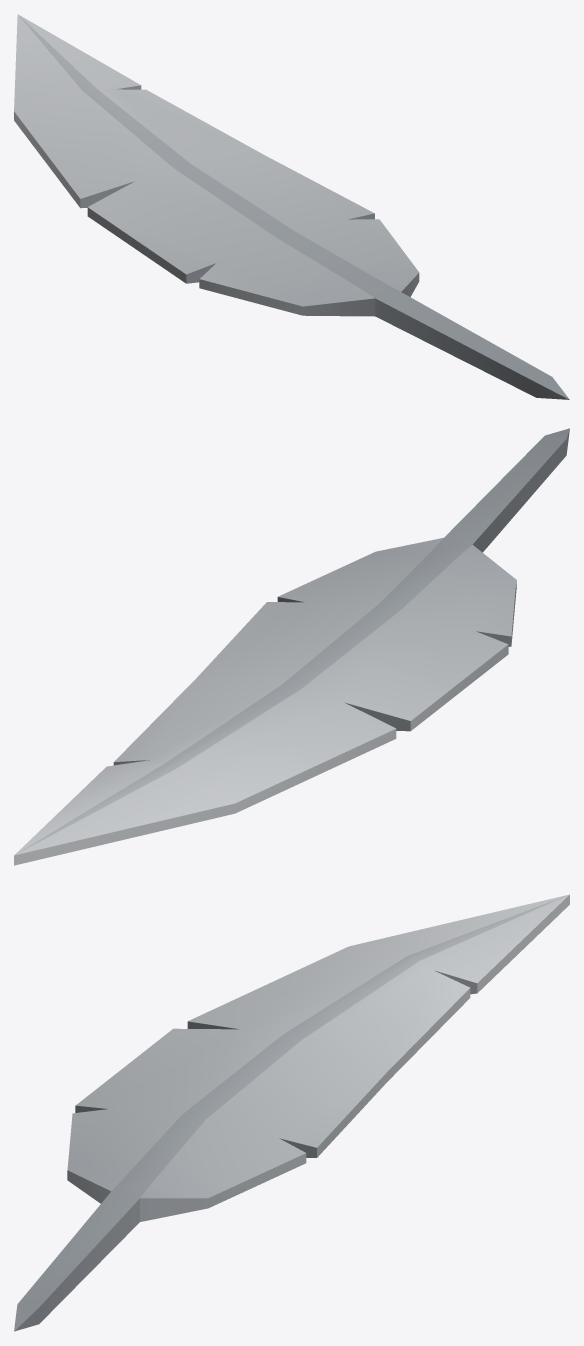
The model's file is Feather1.fbx.
The picture shows the model from 3 angles, top to bottom: view 1: azimuth 30°, elevation 25°; view 2: azimuth 150°, elevation 25°; view 3: azimuth 330°, elevation 25°; orthographic projection. The views are drawn at different scales.
Parts seen in each view (by area): view 1: Feather1; view 2: Feather1; view 3: Feather1.
Boxes of the visible parts, box(x1,y1,x2,y2) form: Feather1: box(14, 14, 569, 399); Feather1: box(14, 428, 569, 865); Feather1: box(14, 894, 569, 1331).
Size of the model in its own units: 5.25 by 0.7807 by 23.02.
